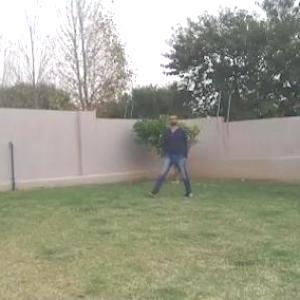follow: (166, 105, 188, 194)
